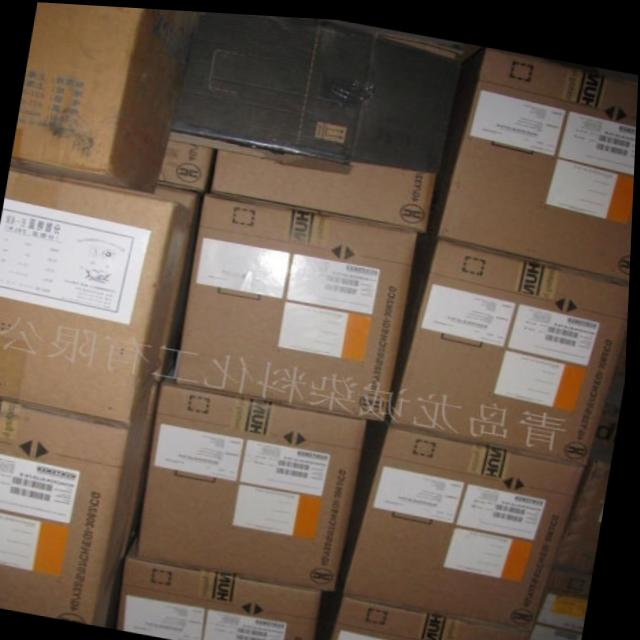box: (179, 190, 418, 416), (394, 233, 631, 456), (140, 365, 370, 586), (348, 419, 589, 626), (0, 166, 192, 422), (431, 40, 638, 275), (12, 2, 195, 191), (0, 395, 150, 623), (121, 537, 326, 640), (211, 147, 436, 228), (532, 451, 614, 640), (334, 592, 536, 640), (155, 180, 198, 380), (158, 138, 213, 188)
